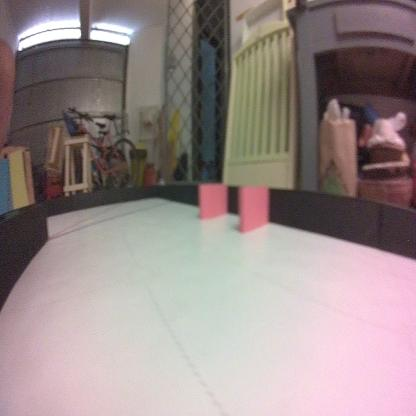magenta: (236, 184, 268, 234), (197, 182, 228, 219)
